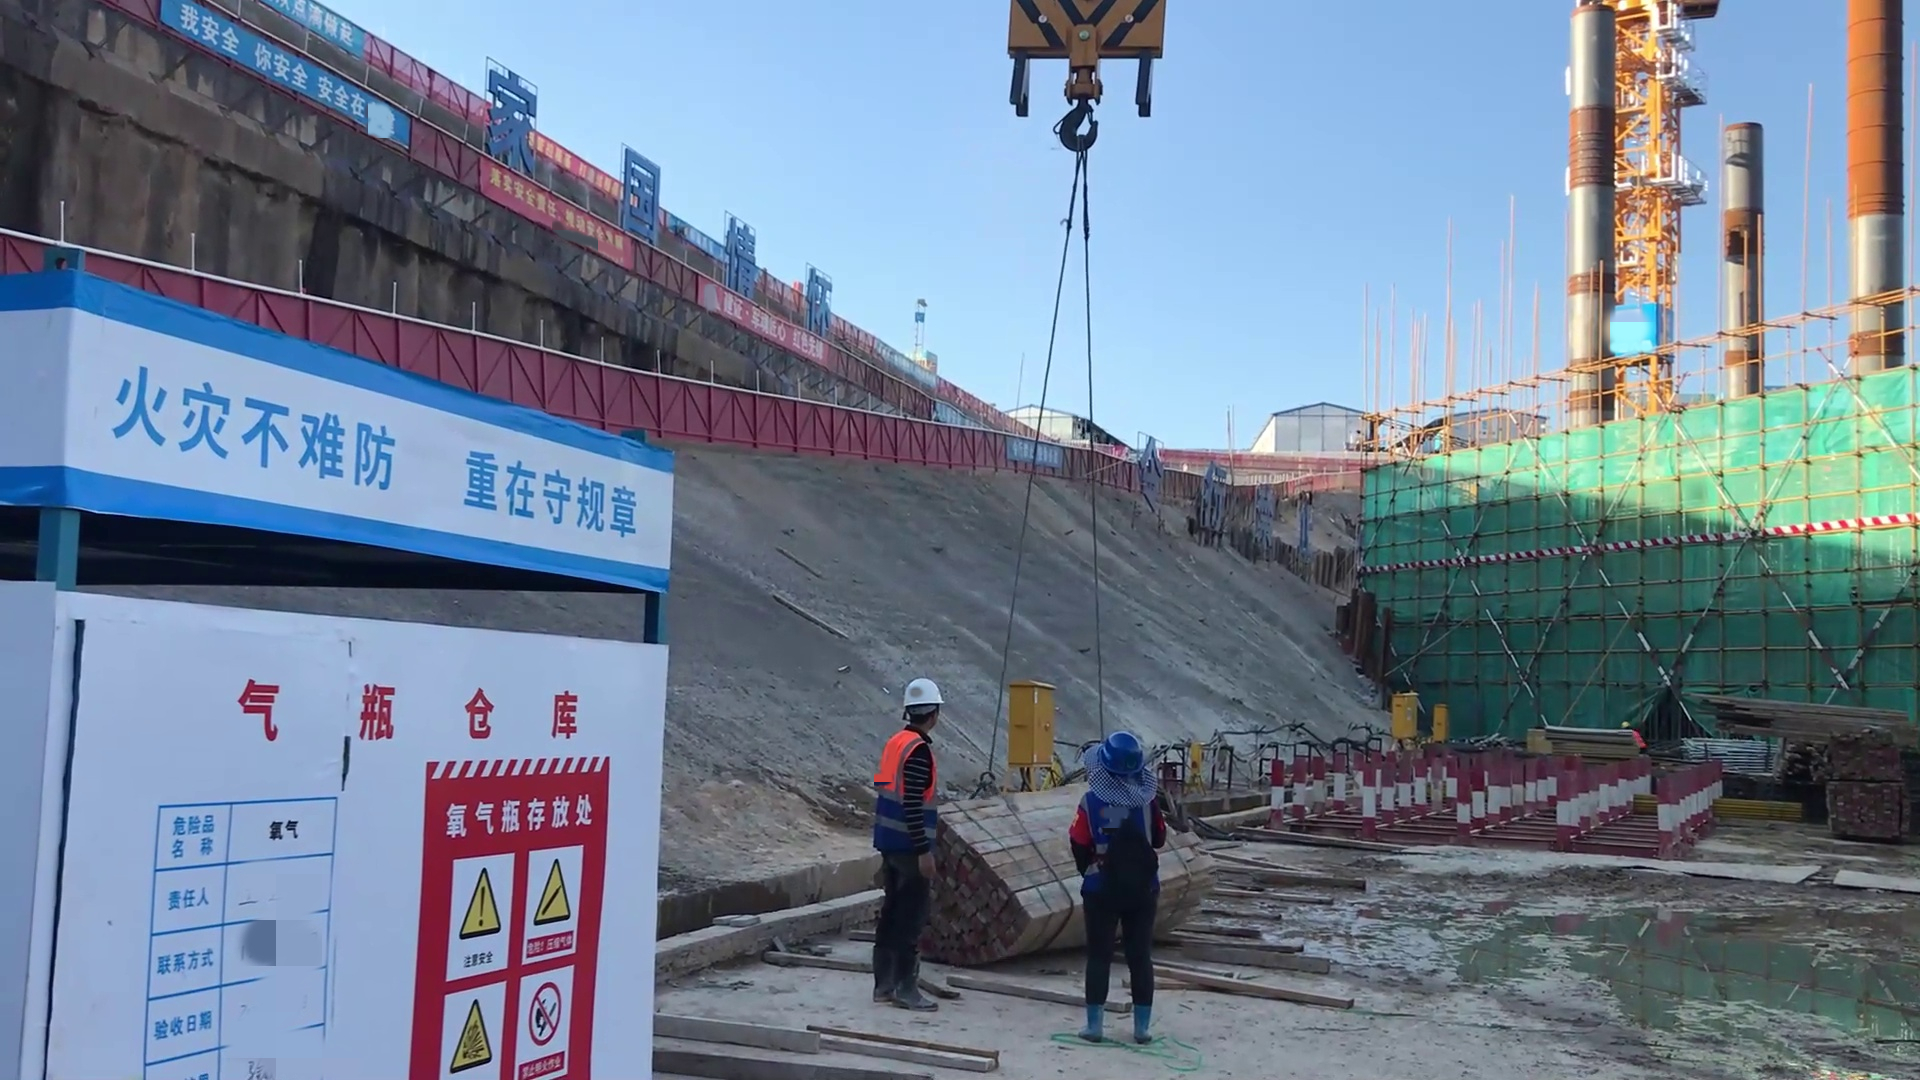ebox: (1008, 670, 1058, 763), (1383, 687, 1423, 739), (1431, 699, 1454, 744)
fence: (677, 376, 886, 453), (885, 409, 1017, 474)
helmet: (1091, 738, 1147, 793), (897, 677, 944, 724)
hook: (999, 1, 1193, 141)
person: (860, 667, 957, 1012), (1076, 731, 1162, 1045)
slogan: (107, 348, 643, 557), (432, 850, 606, 1080), (161, 1, 401, 160), (454, 120, 644, 292)
vest: (862, 731, 939, 854)
wood: (1174, 808, 1369, 1013), (948, 793, 1078, 985), (1699, 687, 1901, 757)
